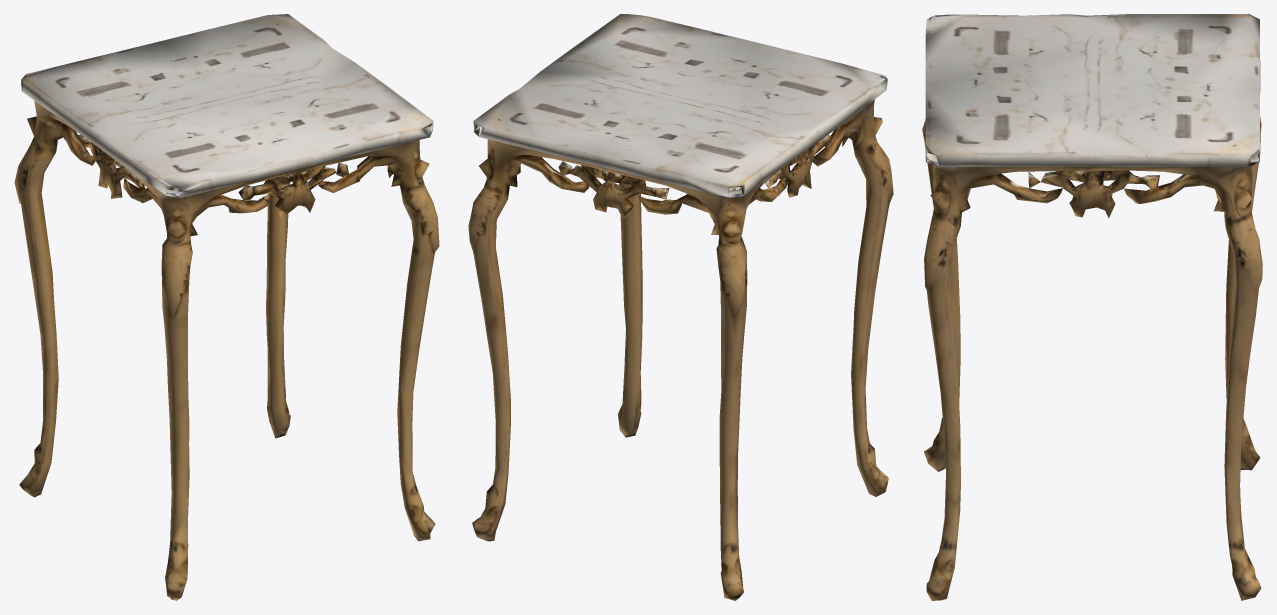
Rendered from Zcash_GameTable_A.glb.
3 renders of one model, left to right at view 1: azimuth 30°, elevation 25°; view 2: azimuth 150°, elevation 25°; view 3: azimuth 270°, elevation 25°, orthographic. The views are drawn at different scales.
Parts seen in each view (by area): view 1: Mesh1.0; view 2: Mesh1.0; view 3: Mesh1.0.
Part boxes in pixels (x1,y1,x2,y2): Mesh1.0: (14,14,439,600); Mesh1.0: (468,14,893,600); Mesh1.0: (922,14,1262,600).
Size of the model in its own units: 0.683 by 1 by 0.6852.
1 material, 1 textured.
